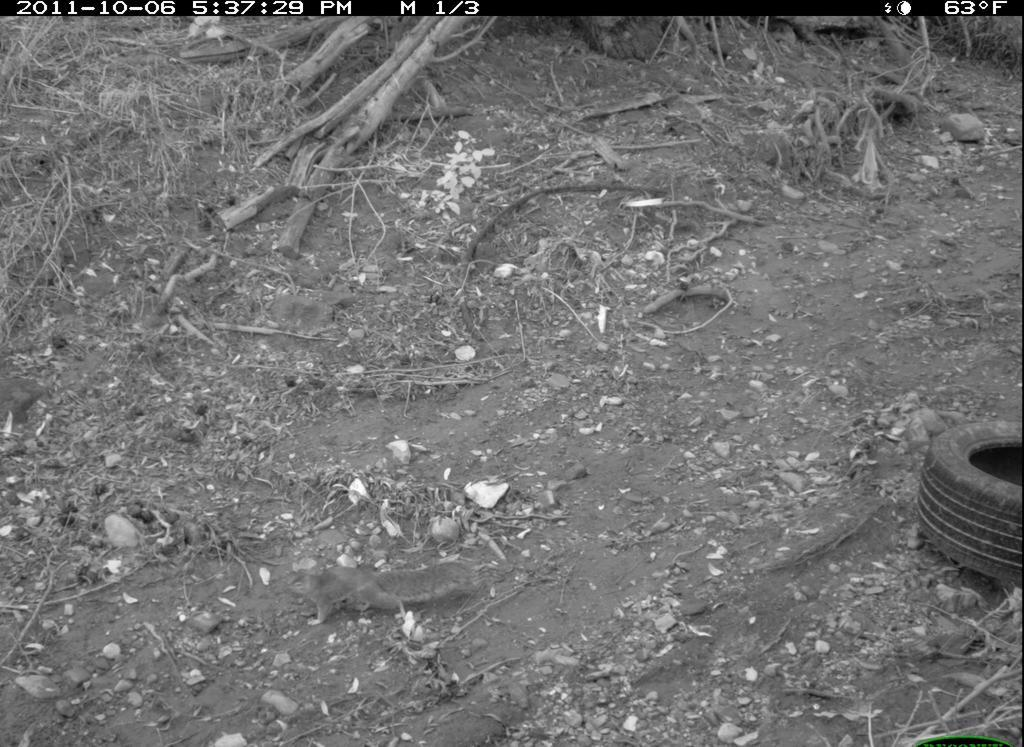squirrel: (282, 551, 488, 634)
